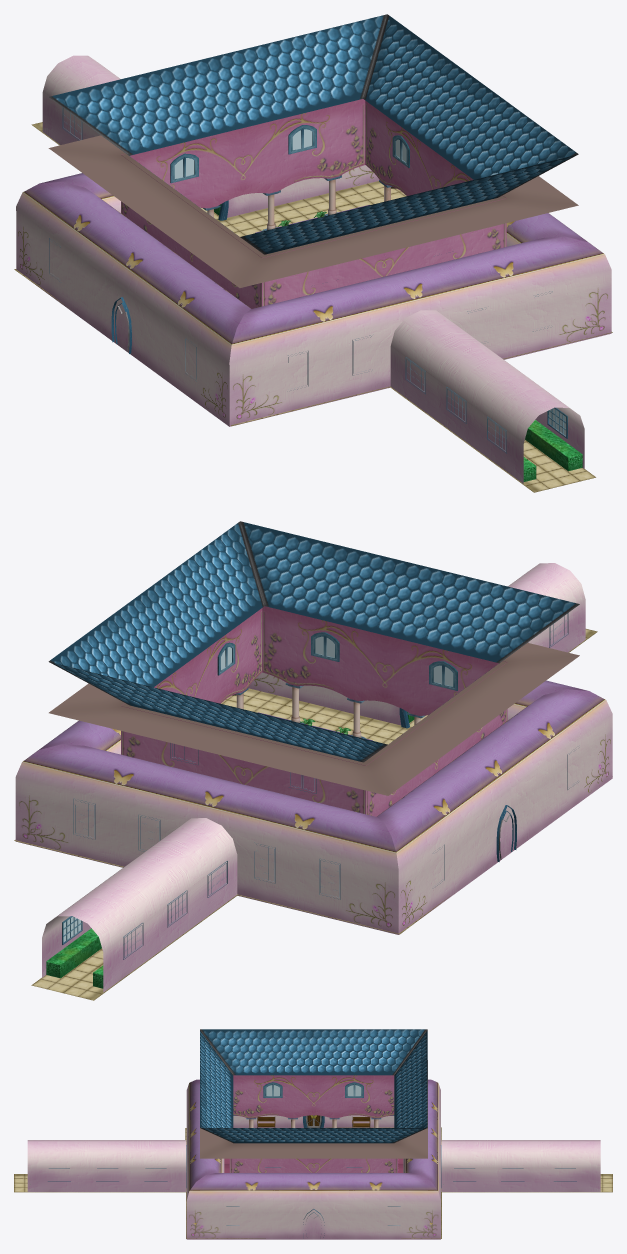
File: courtyard_combined.fbx
3 renders of one model, top to bottom at view 1: azimuth 30°, elevation 25°; view 2: azimuth 150°, elevation 25°; view 3: azimuth 270°, elevation 25°, orthographic. The views are drawn at different scales.
Parts seen in each view (by area): view 1: Combined_Enviro, Flooring3, Props; view 2: Combined_Enviro, Flooring3, Props; view 3: Combined_Enviro, Props, Flooring3.
Boxes of the visible parts, bbox=[...] form: Combined_Enviro: bbox=[16, 14, 611, 483]; Flooring3: bbox=[14, 122, 612, 492]; Props: bbox=[49, 107, 567, 453]; Combined_Enviro: bbox=[15, 521, 612, 992]; Flooring3: bbox=[14, 629, 597, 1000]; Props: bbox=[62, 613, 578, 959]; Combined_Enviro: bbox=[27, 1029, 600, 1239]; Props: bbox=[48, 1082, 576, 1237]; Flooring3: bbox=[14, 1127, 612, 1238].
Size of the model in its own units: 27.77 by 12.46 by 62.47.
